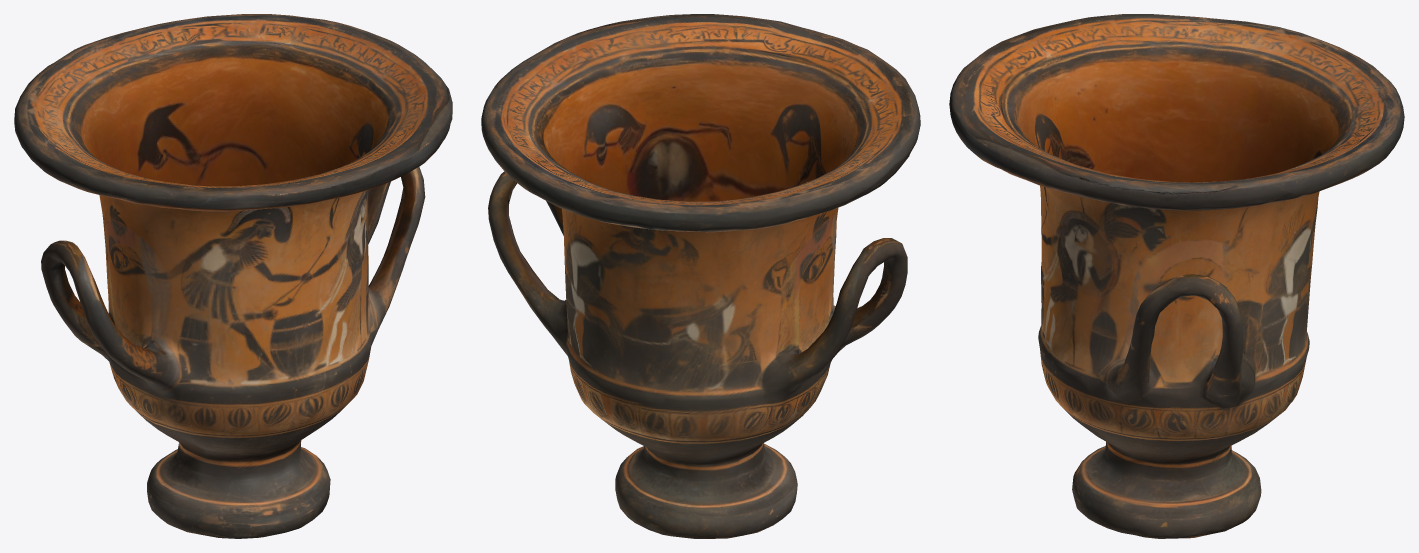
File: Ancient_Greek_Vase_Sc.glb
3 views of the same model, side by side, from view 1: azimuth 30°, elevation 25°; view 2: azimuth 150°, elevation 25°; view 3: azimuth 270°, elevation 25° (orthographic). The views are drawn at different scales.
Bounding box in the file's own units: 1.94 × 1.99 × 1.99.
1 material, 1 textured.
